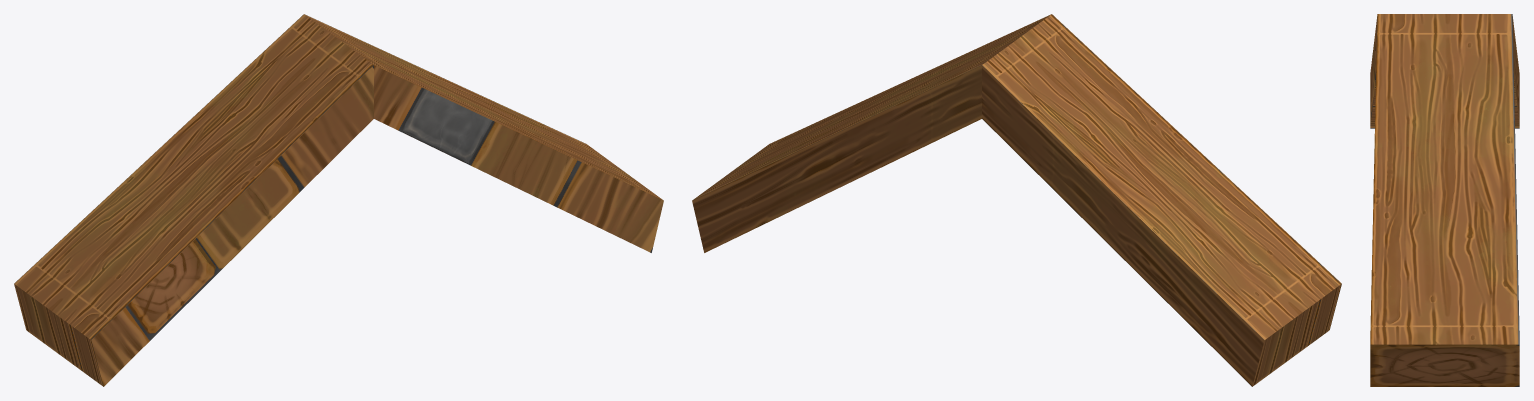
3 renders of one model, left to right at view 1: azimuth 30°, elevation 25°; view 2: azimuth 150°, elevation 25°; view 3: azimuth 270°, elevation 25°, orthographic. The views are drawn at different scales.
Visible parts, largest first — view 1: Cube.759; view 2: Cube.759; view 3: Cube.759.
Part boxes in pixels (x1,y1,x2,y2): Cube.759: (14, 14, 663, 386); Cube.759: (692, 14, 1341, 386); Cube.759: (1370, 14, 1519, 386).
Size of the model in its own units: 336 by 141 by 78.68.
Materials: 1 (1 with a texture image).
